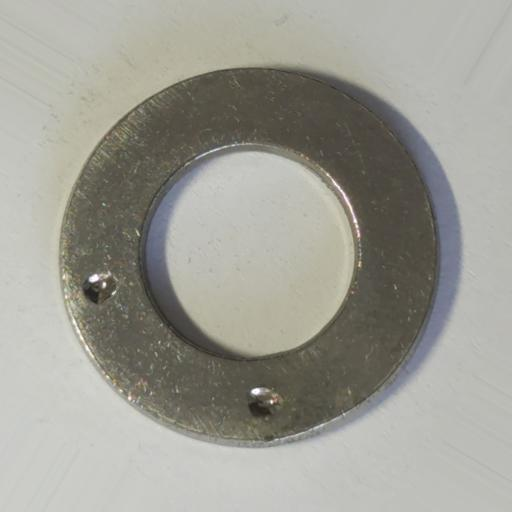circular_cavity: (247, 386, 286, 423), (81, 270, 117, 305)
